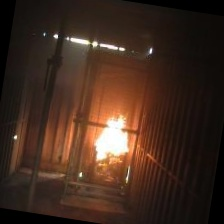fire: (88, 103, 138, 170)
